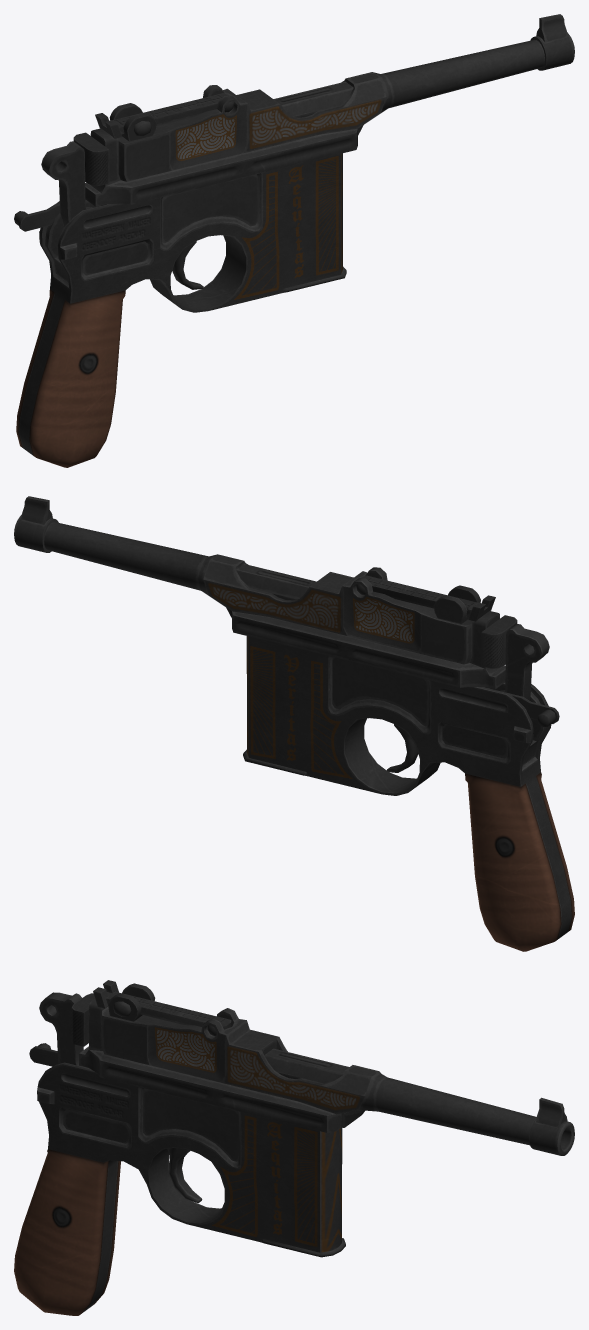
Rendered from mauser_c96_the_redeemer.glb.
3 renders of one model, top to bottom at view 1: azimuth 30°, elevation 25°; view 2: azimuth 150°, elevation 25°; view 3: azimuth 330°, elevation 25°, orthographic.
Visible parts, largest first — view 1: mauser; view 2: mauser; view 3: mauser.
Part boxes in pixels (x1,y1,x2,y2): mauser: (14,14,574,467); mauser: (14,496,574,951); mauser: (14,980,574,1315).
Bounding box in the file's own units: 9.46 × 5.52 × 0.8937.
Materials: 1 (1 with a texture image).
